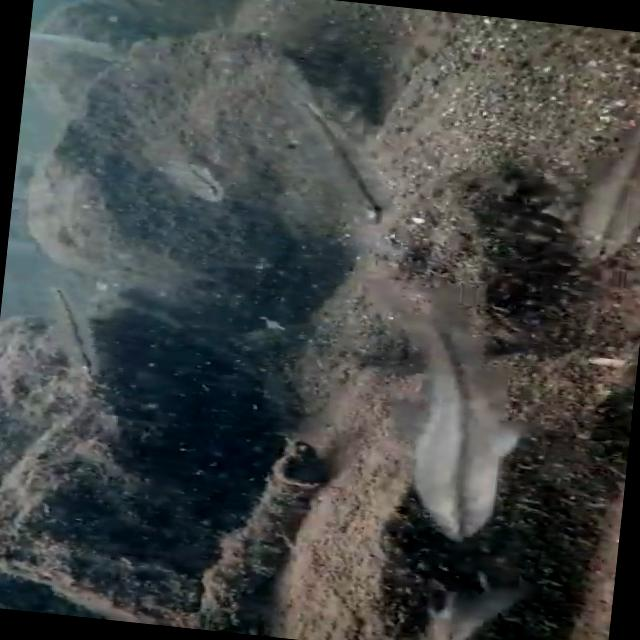Cakil Baligi: (340, 283, 539, 550), (253, 63, 416, 234), (25, 279, 117, 382)
